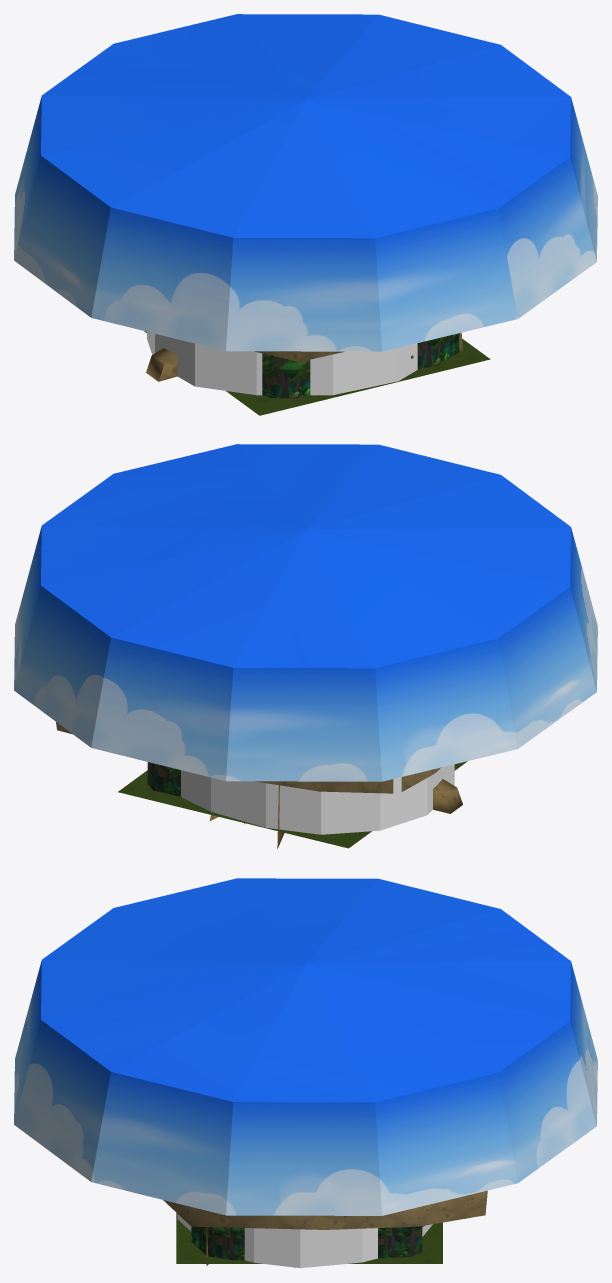
The model's file is rainforest.fbx.
3 views of the same model, one above another, from view 1: azimuth 30°, elevation 25°; view 2: azimuth 150°, elevation 25°; view 3: azimuth 270°, elevation 25° (orthographic).
Visible parts, largest first — view 1: level2_sky, pengzhuang, level2_shan01, level2_dimian, level2_shan02, level2_yuanshan; view 2: level2_sky, pengzhuang, level2_dimian, level2_yuanshan, level2_shan01, level2_shan02; view 3: level2_sky, level2_yuanshan, pengzhuang, level2_shan01, level2_dimian.
Part boxes in pixels (bbox=[...]): level2_sky: bbox=[14, 14, 597, 351]; pengzhuang: bbox=[147, 332, 417, 395]; level2_shan01: bbox=[262, 333, 459, 398]; level2_dimian: bbox=[144, 331, 490, 415]; level2_shan02: bbox=[146, 348, 177, 381]; level2_yuanshan: bbox=[254, 351, 344, 361]; level2_sky: bbox=[14, 444, 597, 781]; pengzhuang: bbox=[181, 764, 454, 834]; level2_dimian: bbox=[118, 761, 467, 848]; level2_yuanshan: bbox=[56, 722, 441, 793]; level2_shan01: bbox=[147, 762, 180, 796]; level2_shan02: bbox=[433, 779, 462, 813]; level2_sky: bbox=[14, 878, 597, 1215]; level2_yuanshan: bbox=[163, 1190, 487, 1229]; pengzhuang: bbox=[177, 1214, 432, 1268]; level2_shan01: bbox=[191, 1226, 422, 1260]; level2_dimian: bbox=[176, 1213, 442, 1263].
Size of the model in its own units: 24097 by 11797 by 24097.
